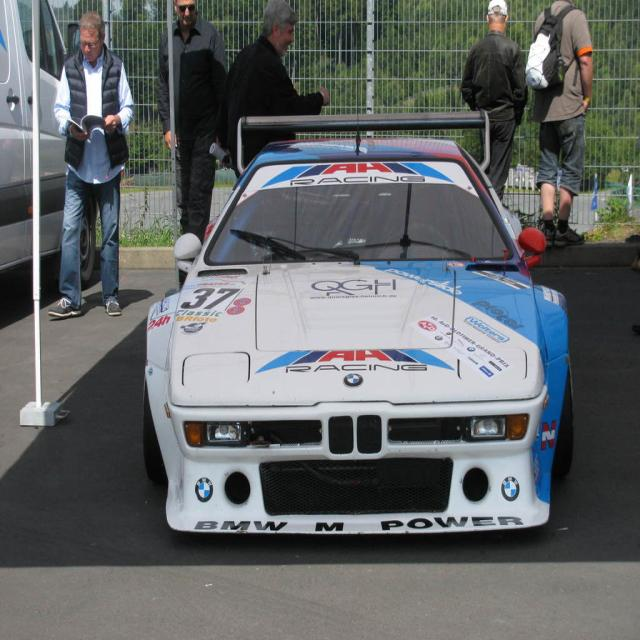car: (139, 106, 573, 537)
